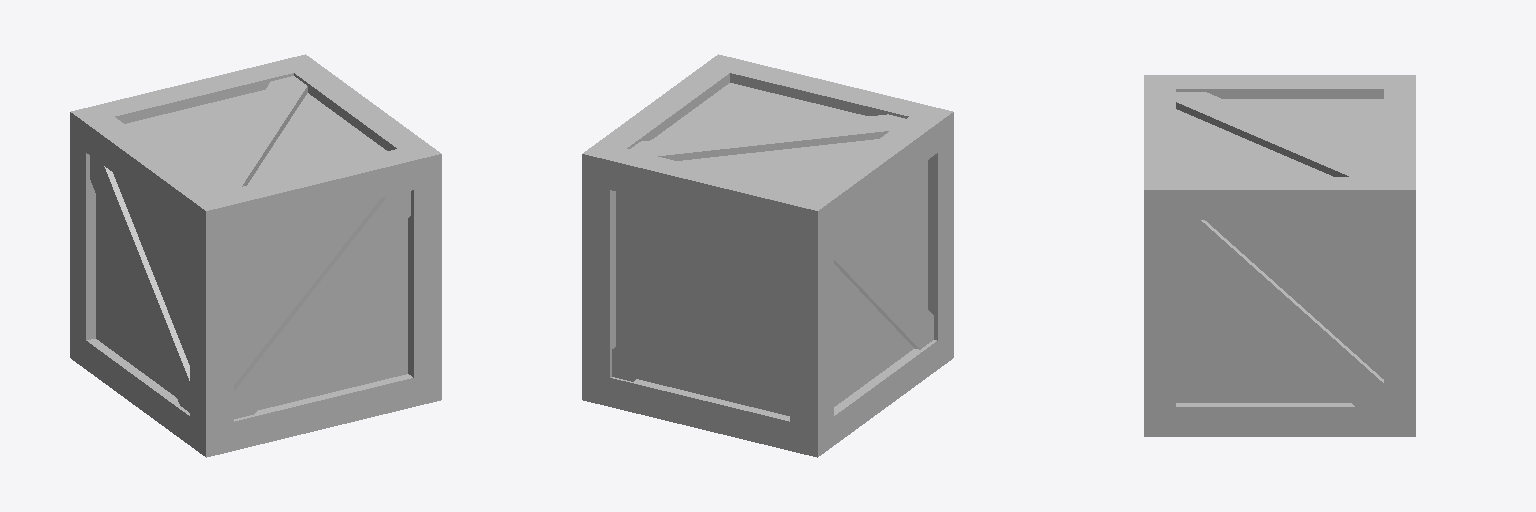
Rendered from woodcrate.obj.
3 views of the same model, side by side, from view 1: azimuth 30°, elevation 25°; view 2: azimuth 150°, elevation 25°; view 3: azimuth 270°, elevation 25° (orthographic).
Visible parts, largest first — view 1: default001; view 2: default001; view 3: default001.
Part boxes in pixels (left/top/right/bottom): default001: left=70, top=54, right=441, bottom=457; default001: left=582, top=54, right=953, bottom=457; default001: left=1144, top=75, right=1415, bottom=436.
Size of the model in its own units: 2.01 by 2.01 by 2.01.